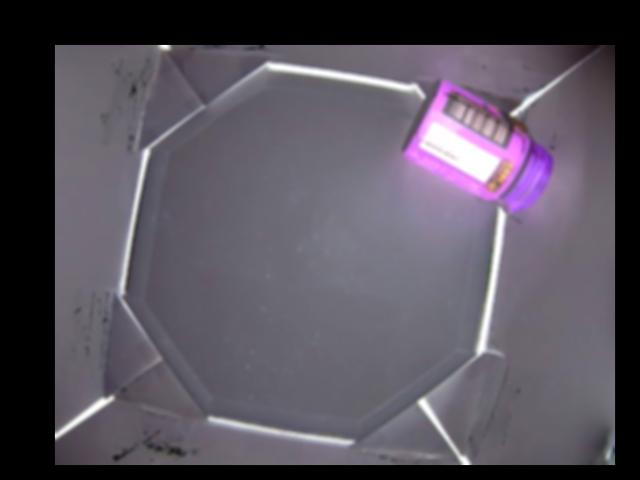Bottle: (398, 76, 554, 213)
